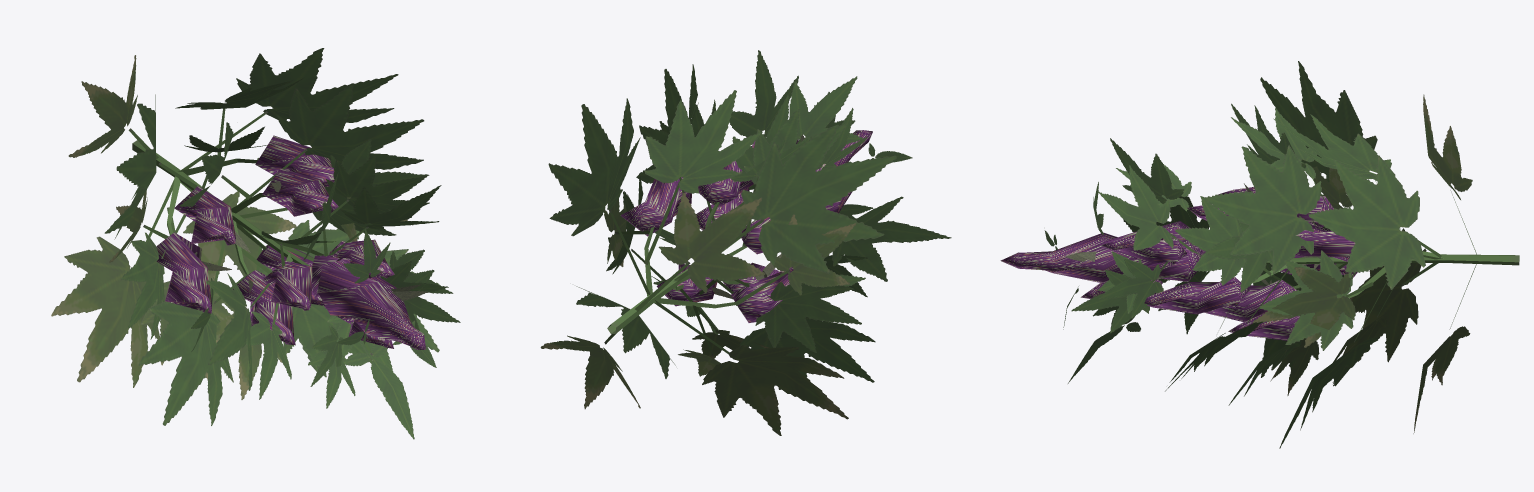
File: p_purple_hybrid_ripe_c0_cards.obj
3 renders of one model, left to right at view 1: azimuth 30°, elevation 25°; view 2: azimuth 150°, elevation 25°; view 3: azimuth 270°, elevation 25°, orthographic. The views are drawn at different scales.
Bounding box in the file's own units: 1.4 × 1.27 × 1.65.
Materials: 1 (1 with a texture image).
